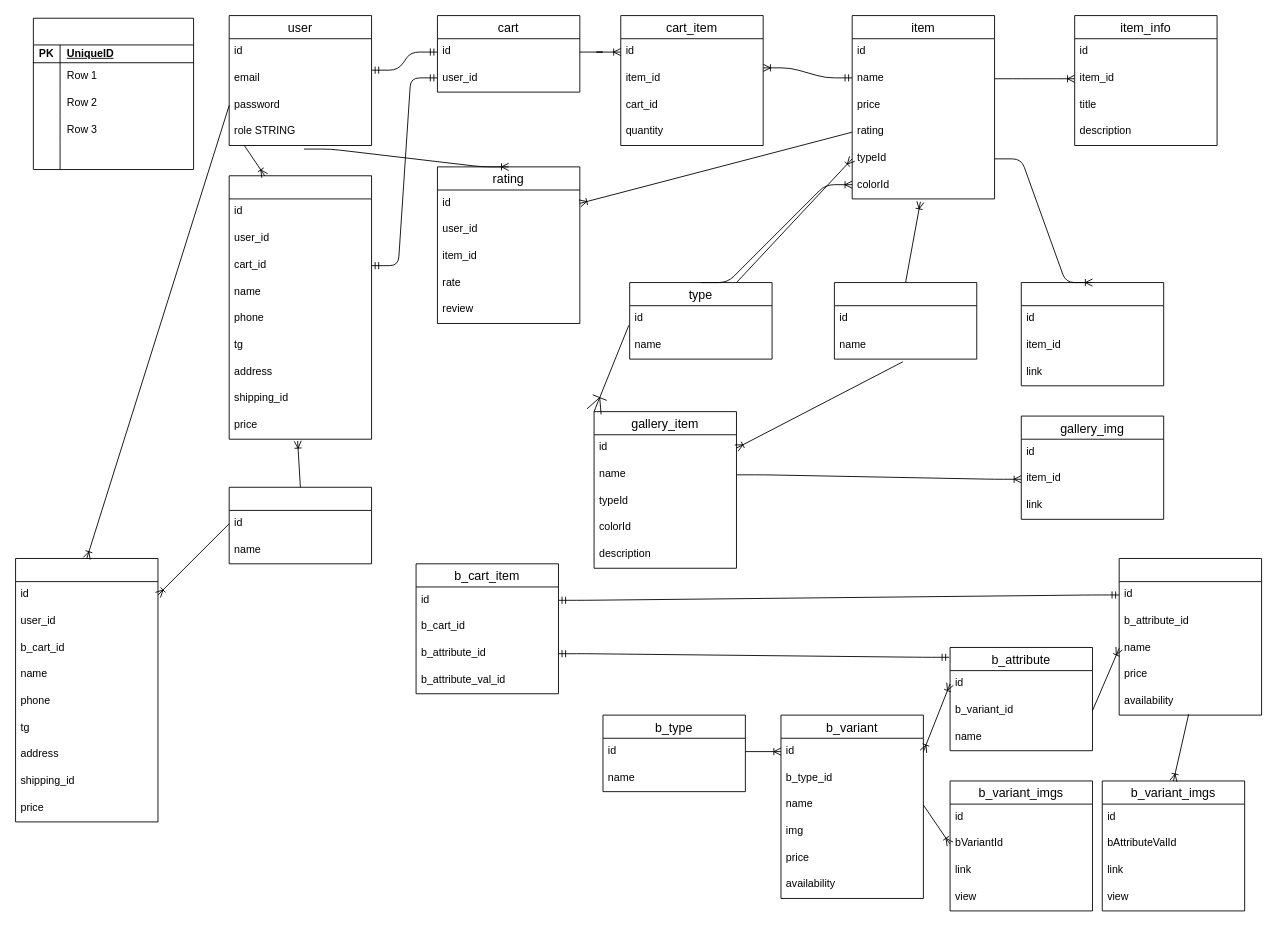
Some shapes in this 1277 by 929 pixel diagram are drawn without their labels. The shapes that lost their labels are listed below. From the top down, each one's box as (x1, y1, x2, y2) in pixels, then its label:
(32, 17, 194, 170): Table
(228, 175, 372, 439): checkout
(833, 282, 977, 359): color
(1020, 282, 1164, 386): shop_img
(228, 486, 372, 564): shipping
(1118, 558, 1262, 715): b_attribute_val
(15, 558, 158, 822): b_checkout
